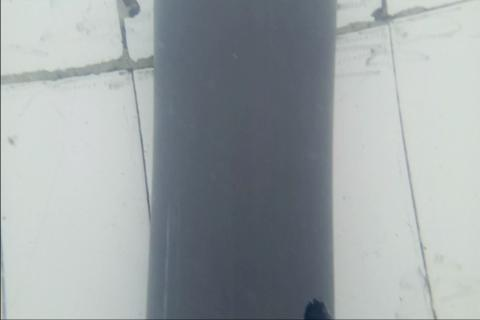kebocoran: (302, 295, 331, 320)
